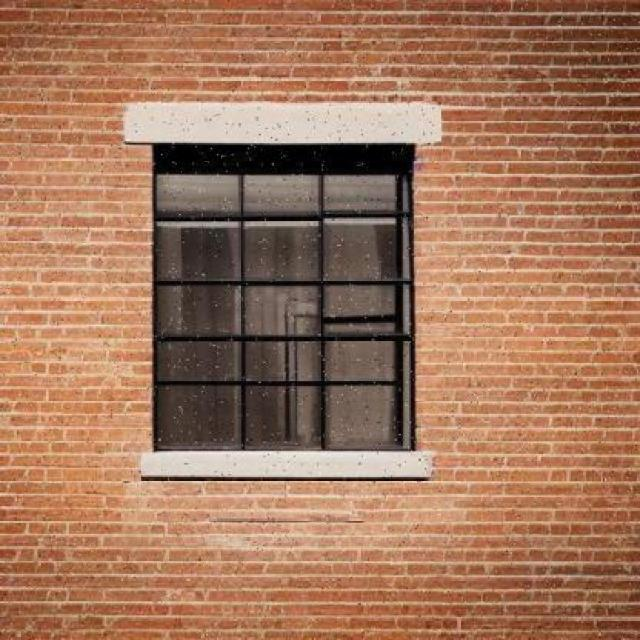window: (151, 142, 415, 450)
